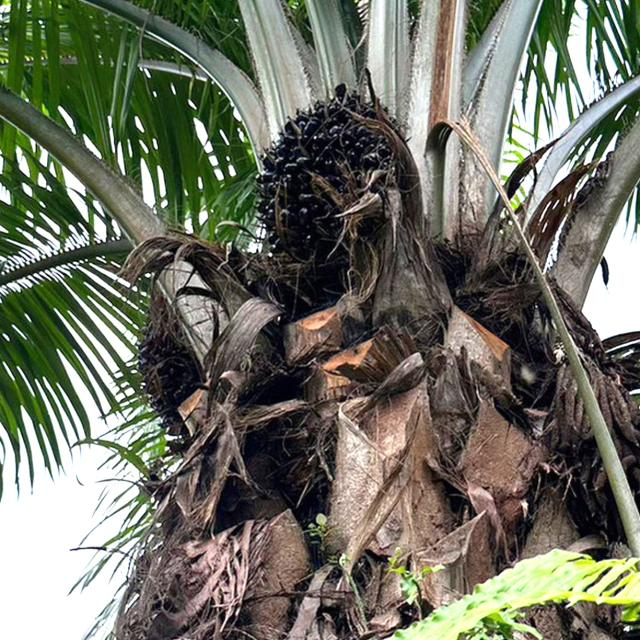unripe: (238, 81, 424, 286)
